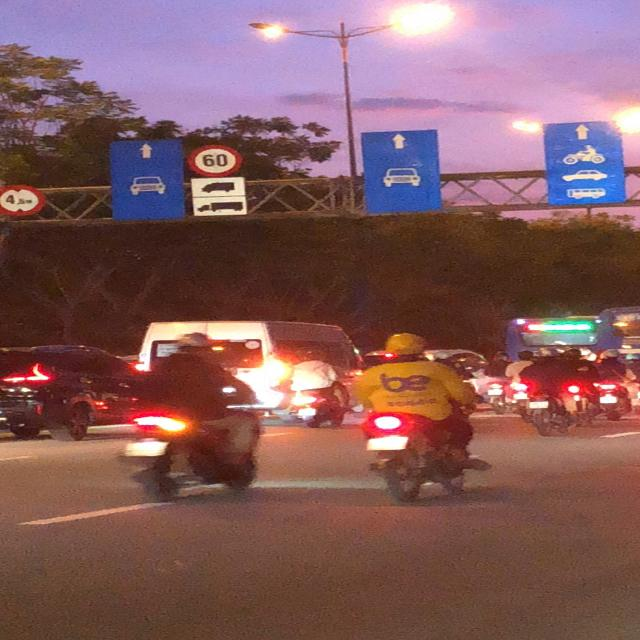Bien bao han che chieu cao: (0, 178, 49, 223)
Bien bao toc do toi da cho phep: (184, 142, 249, 181)
